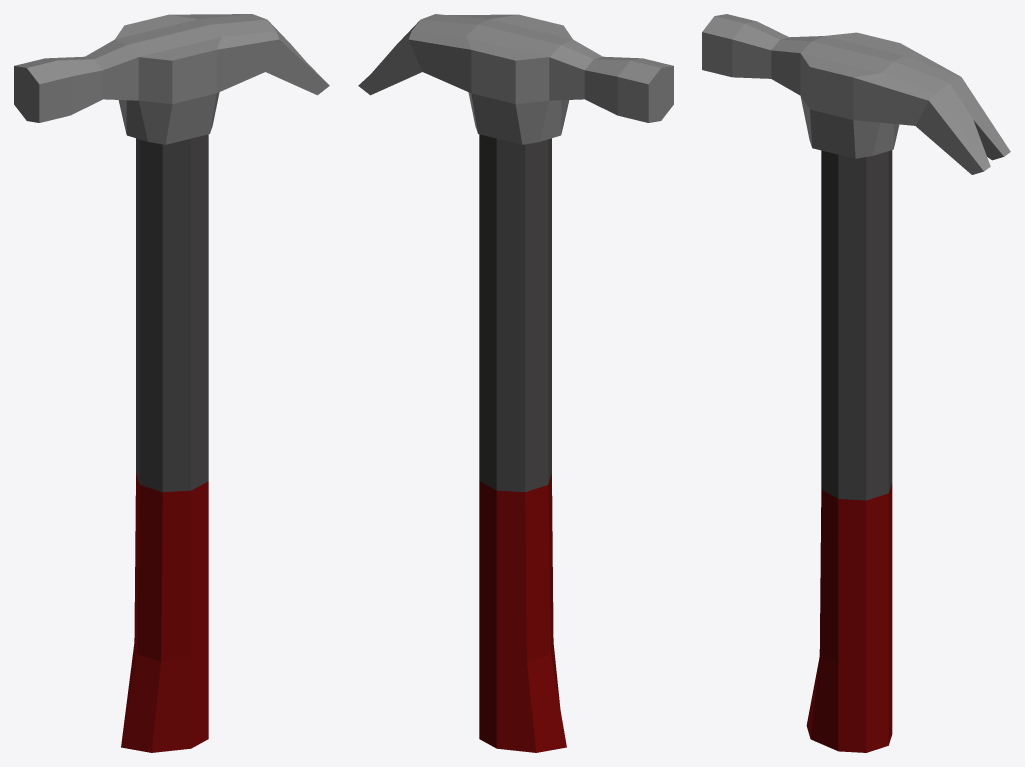
Rendered from Hammer.fbx.
3 views of the same model, side by side, from view 1: azimuth 30°, elevation 25°; view 2: azimuth 150°, elevation 25°; view 3: azimuth 330°, elevation 25° (orthographic). The views are drawn at different scales.
Visible parts, largest first — view 1: Hammer Handle, Hammer Head; view 2: Hammer Handle, Hammer Head; view 3: Hammer Handle, Hammer Head.
Part boxes in pixels (<box>): Hammer Handle: <box>121,134,208,752</box>; Hammer Head: <box>14,14,329,144</box>; Hammer Handle: <box>479,134,566,752</box>; Hammer Head: <box>358,14,673,144</box>; Hammer Handle: <box>806,150,892,752</box>; Hammer Head: <box>702,14,1010,174</box>.
Bounding box in the file's own units: 0.444 × 1.03 × 0.1277.
